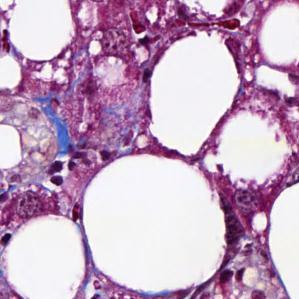inflammation: (48, 157, 82, 186), (140, 34, 154, 86), (221, 267, 250, 286), (99, 147, 113, 163), (0, 231, 12, 246)
